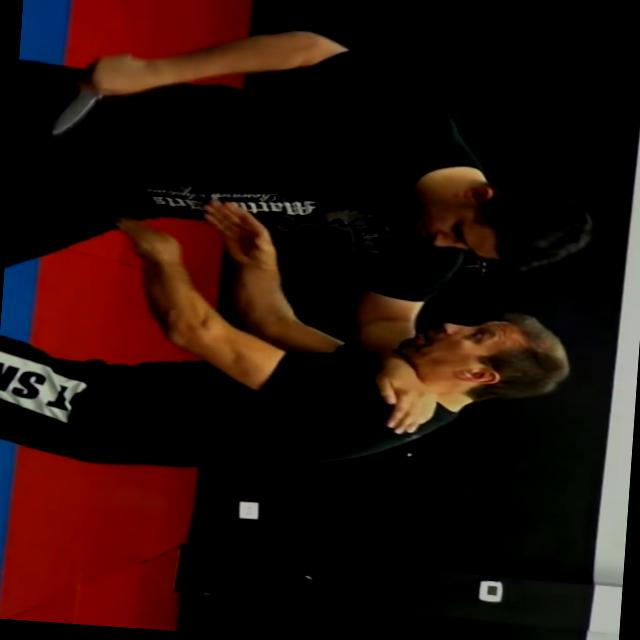knife: (40, 46, 132, 142)
